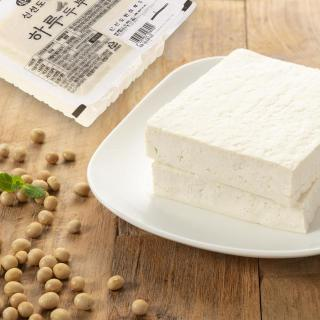Tahu: (138, 39, 320, 231)
